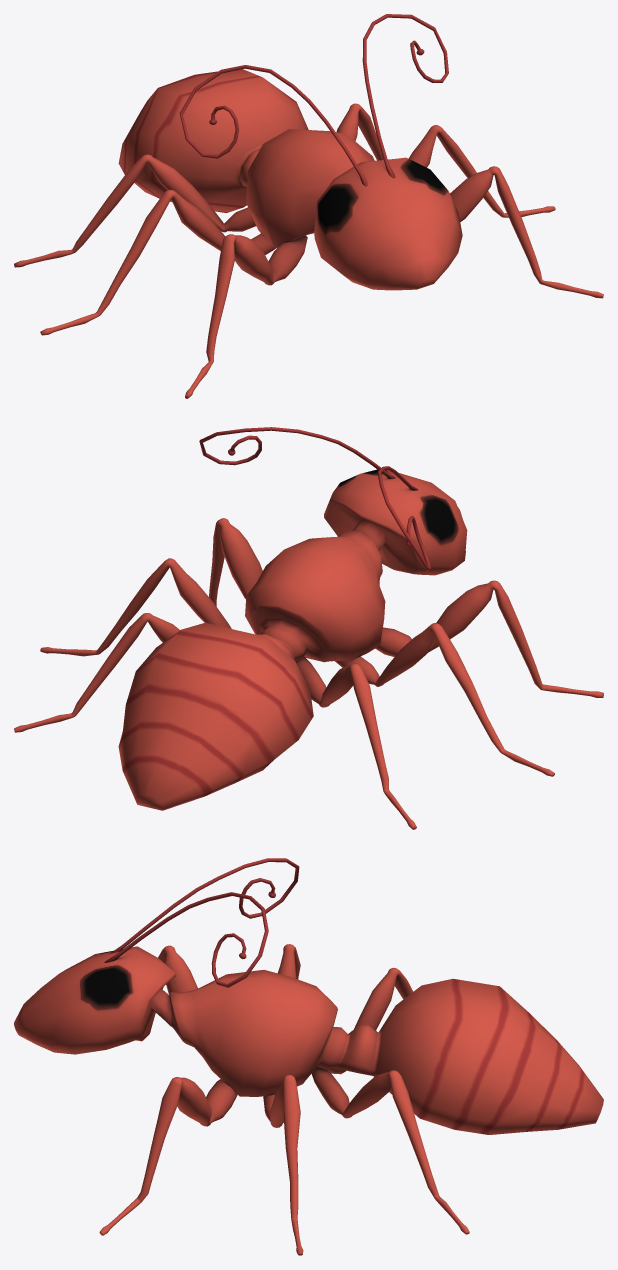
Rendered from Ant_Mesh.obj.
The picture shows the model from 3 angles, top to bottom: view 1: azimuth 30°, elevation 25°; view 2: azimuth 150°, elevation 25°; view 3: azimuth 270°, elevation 25°; orthographic projection.
Parts seen in each view (by area): view 1: Ant:ant_body Ant:group18 Ant:geo Geometry Group, Ant:group18 Ant:geo Geometry Group Ant:leg_R_6 Ant:group23, Ant:group18 Ant:geo Geometry Group Ant:group23 Ant:leg_R_5, Ant:group18 Ant:geo Geometry Group Ant:group23 Ant:leg_R_4, Ant:group18 Ant:geo Geometry Group Ant:leg_R_60 Ant:group24, Ant:group18 Ant:geo Geometry Group Ant:pCylinder3, Ant:group18 Ant:geo Geometry Group Ant:group24 Ant:leg_R_40, Ant:group18 Ant:geo Geometry Group Ant:pCylinder2, Ant:group18 Ant:geo Geometry Group Ant:group24 Ant:leg_R_50; view 2: Ant:ant_body Ant:group18 Ant:geo Geometry Group, Ant:group18 Ant:geo Geometry Group Ant:leg_R_6 Ant:group23, Ant:group18 Ant:geo Geometry Group Ant:group23 Ant:leg_R_4, Ant:group18 Ant:geo Geometry Group Ant:group23 Ant:leg_R_5, Ant:group18 Ant:geo Geometry Group Ant:group24 Ant:leg_R_40, Ant:group18 Ant:geo Geometry Group Ant:leg_R_60 Ant:group24, Ant:group18 Ant:geo Geometry Group Ant:group24 Ant:leg_R_50, Ant:group18 Ant:geo Geometry Group Ant:pCylinder2, Ant:group18 Ant:geo Geometry Group Ant:pCylinder3; view 3: Ant:ant_body Ant:group18 Ant:geo Geometry Group, Ant:group18 Ant:geo Geometry Group Ant:group24 Ant:leg_R_50, Ant:group18 Ant:geo Geometry Group Ant:leg_R_60 Ant:group24, Ant:group18 Ant:geo Geometry Group Ant:group24 Ant:leg_R_40, Ant:group18 Ant:geo Geometry Group Ant:pCylinder2, Ant:group18 Ant:geo Geometry Group Ant:group23 Ant:leg_R_5, Ant:group18 Ant:geo Geometry Group Ant:pCylinder3, Ant:group18 Ant:geo Geometry Group Ant:leg_R_6 Ant:group23, Ant:group18 Ant:geo Geometry Group Ant:group23 Ant:leg_R_4.
Boxes of the visible parts, bbox=[...] form: Ant:ant_body Ant:group18 Ant:geo Geometry Group: bbox=[118, 69, 462, 290]; Ant:group18 Ant:geo Geometry Group Ant:leg_R_6 Ant:group23: bbox=[185, 234, 307, 398]; Ant:group18 Ant:geo Geometry Group Ant:group23 Ant:leg_R_5: bbox=[14, 154, 256, 267]; Ant:group18 Ant:geo Geometry Group Ant:group23 Ant:leg_R_4: bbox=[40, 189, 275, 335]; Ant:group18 Ant:geo Geometry Group Ant:leg_R_60 Ant:group24: bbox=[450, 166, 603, 298]; Ant:group18 Ant:geo Geometry Group Ant:pCylinder3: bbox=[179, 65, 367, 186]; Ant:group18 Ant:geo Geometry Group Ant:group24 Ant:leg_R_40: bbox=[408, 125, 555, 217]; Ant:group18 Ant:geo Geometry Group Ant:pCylinder2: bbox=[362, 14, 448, 178]; Ant:group18 Ant:geo Geometry Group Ant:group24 Ant:leg_R_50: bbox=[336, 103, 383, 160]; Ant:ant_body Ant:group18 Ant:geo Geometry Group: bbox=[118, 469, 467, 810]; Ant:group18 Ant:geo Geometry Group Ant:leg_R_6 Ant:group23: bbox=[375, 580, 603, 697]; Ant:group18 Ant:geo Geometry Group Ant:group23 Ant:leg_R_4: bbox=[335, 623, 554, 776]; Ant:group18 Ant:geo Geometry Group Ant:group23 Ant:leg_R_5: bbox=[295, 657, 416, 829]; Ant:group18 Ant:geo Geometry Group Ant:group24 Ant:leg_R_40: bbox=[40, 558, 231, 656]; Ant:group18 Ant:geo Geometry Group Ant:leg_R_60 Ant:group24: bbox=[209, 518, 262, 606]; Ant:group18 Ant:geo Geometry Group Ant:group24 Ant:leg_R_50: bbox=[14, 613, 179, 732]; Ant:group18 Ant:geo Geometry Group Ant:pCylinder2: bbox=[199, 427, 395, 478]; Ant:group18 Ant:geo Geometry Group Ant:pCylinder3: bbox=[377, 466, 430, 570]; Ant:ant_body Ant:group18 Ant:geo Geometry Group: bbox=[14, 946, 603, 1134]; Ant:group18 Ant:geo Geometry Group Ant:group24 Ant:leg_R_50: bbox=[311, 1067, 469, 1234]; Ant:group18 Ant:geo Geometry Group Ant:leg_R_60 Ant:group24: bbox=[99, 1077, 237, 1235]; Ant:group18 Ant:geo Geometry Group Ant:group24 Ant:leg_R_40: bbox=[263, 1074, 303, 1255]; Ant:group18 Ant:geo Geometry Group Ant:pCylinder2: bbox=[104, 892, 268, 987]; Ant:group18 Ant:geo Geometry Group Ant:group23 Ant:leg_R_5: bbox=[327, 967, 413, 1074]; Ant:group18 Ant:geo Geometry Group Ant:pCylinder3: bbox=[109, 858, 299, 953]; Ant:group18 Ant:geo Geometry Group Ant:leg_R_6 Ant:group23: bbox=[136, 945, 197, 1041]; Ant:group18 Ant:geo Geometry Group Ant:group23 Ant:leg_R_4: bbox=[278, 944, 300, 979].
Size of the model in its own units: 10.35 by 5.07 by 10.22.
1 material, 1 textured.
